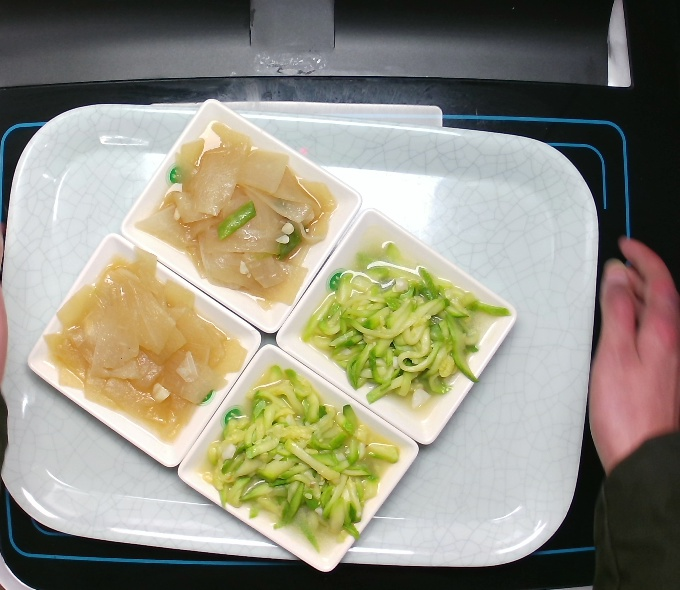wcq-LuoBo: (41, 248, 248, 444), (136, 122, 342, 308)
wcq-NenNanGua: (196, 369, 410, 558), (301, 237, 499, 414)
